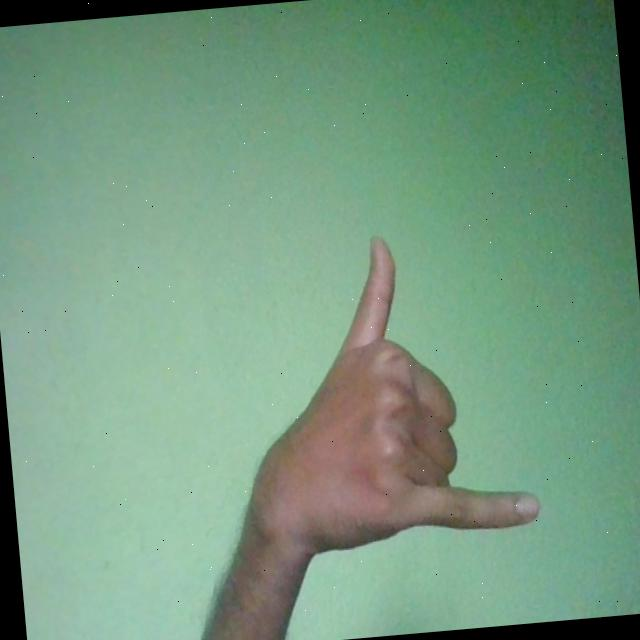Call Me: (219, 222, 542, 558)
